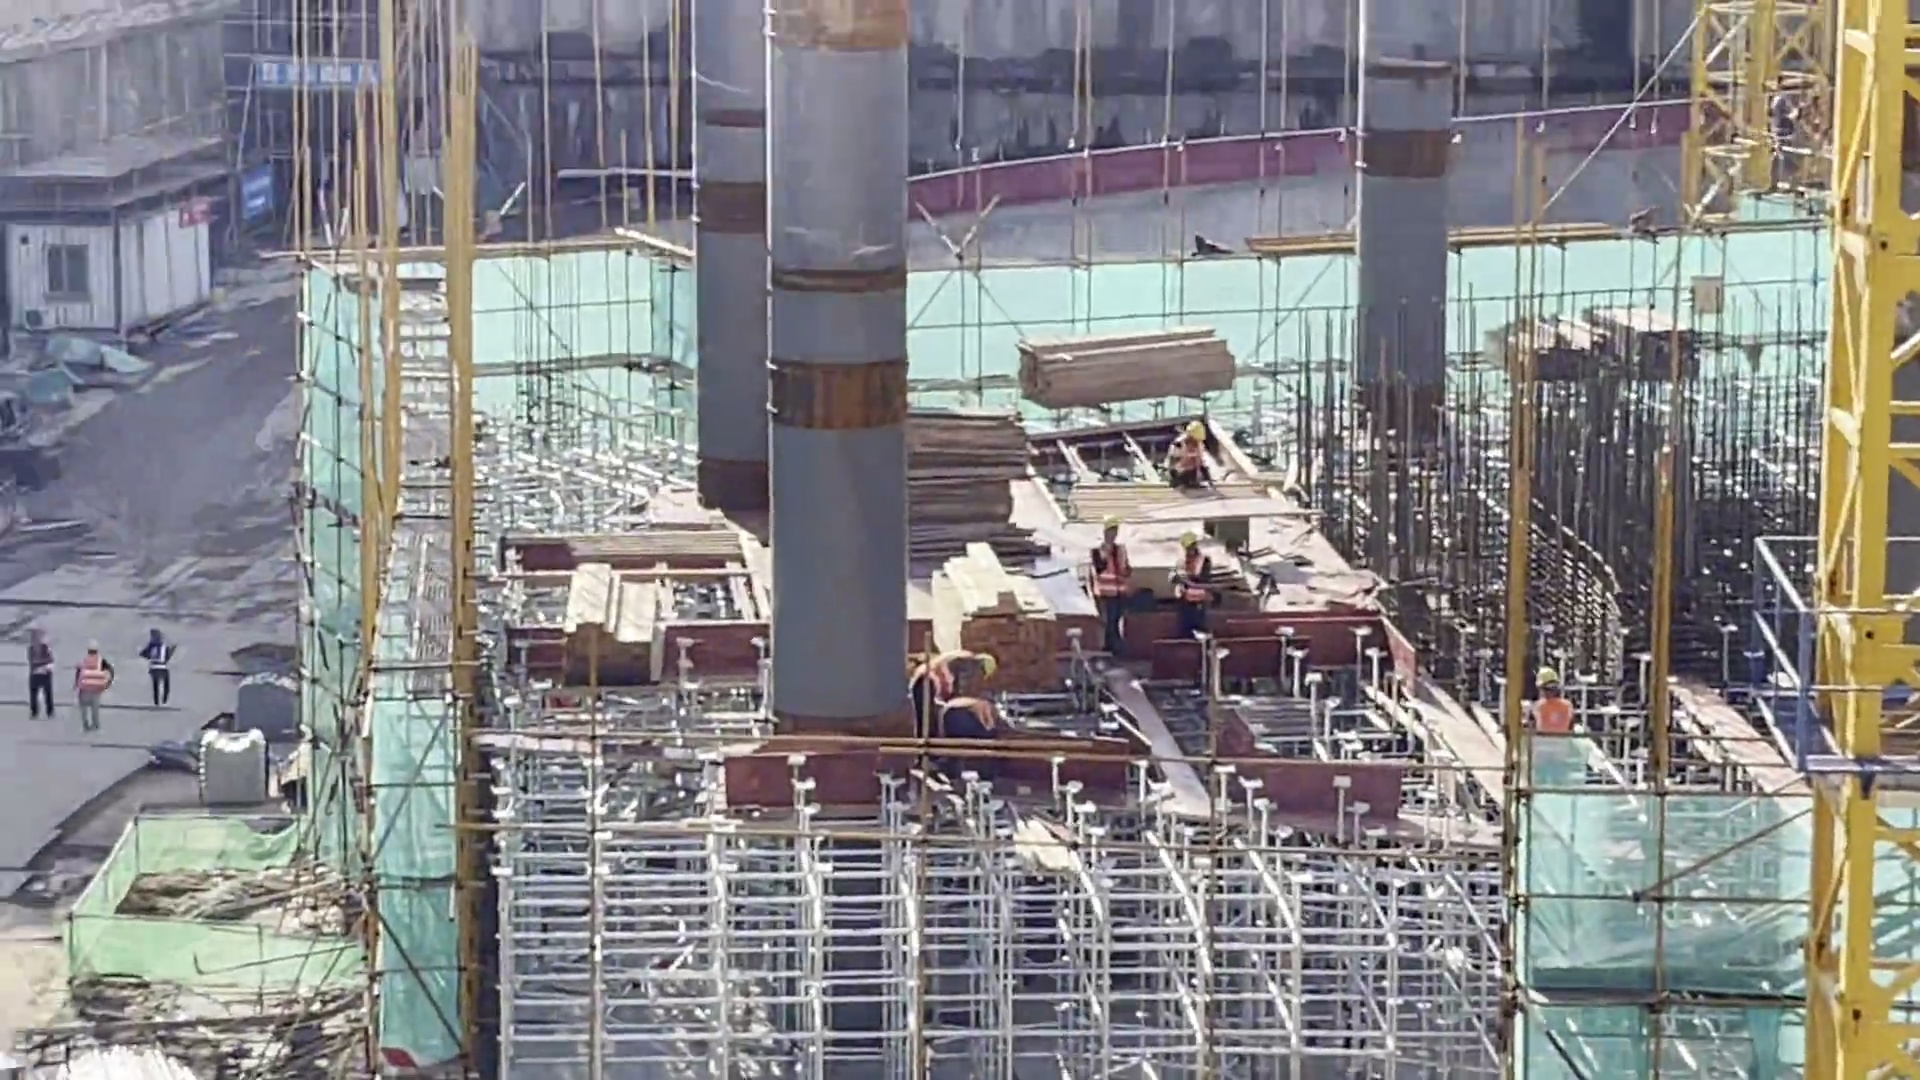helmet: (976, 652, 998, 680), (1532, 667, 1560, 688), (1176, 528, 1200, 551), (1186, 420, 1206, 442), (1099, 518, 1120, 534)
person: (914, 650, 1006, 746), (1081, 513, 1136, 652), (1163, 528, 1212, 636), (73, 639, 115, 733), (24, 627, 58, 721), (1165, 419, 1212, 487), (1529, 666, 1578, 729), (940, 689, 997, 743), (141, 628, 178, 707)
vest: (911, 648, 973, 691), (1090, 543, 1129, 598), (1172, 554, 1208, 606), (1531, 698, 1570, 736), (79, 657, 107, 695), (28, 646, 52, 684), (146, 642, 168, 676)
